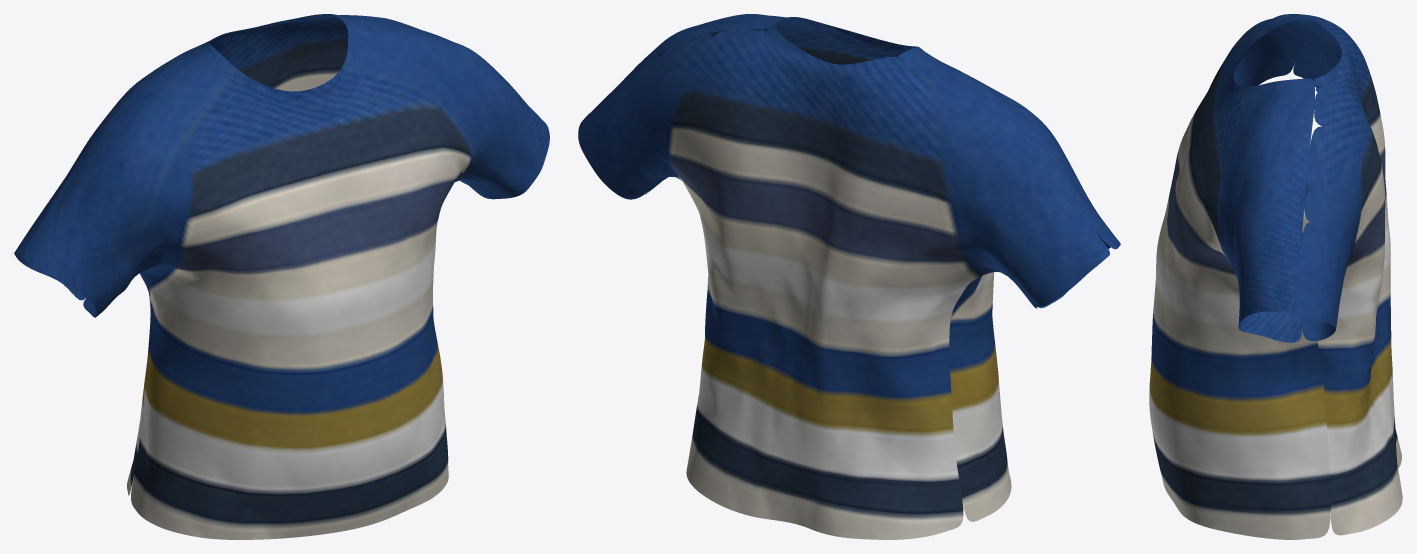
Rendered from TL_SMM.dae.
3 renders of one model, left to right at view 1: azimuth 30°, elevation 25°; view 2: azimuth 150°, elevation 25°; view 3: azimuth 270°, elevation 25°, orthographic. The views are drawn at different scales.
Parts seen in each view (by area): view 1: tshirt; view 2: tshirt; view 3: tshirt.
Boxes of the visible parts, x1=… form: tshirt: x1=14, y1=14, x2=549, y2=539; tshirt: x1=578, y1=14, x2=1120, y2=539; tshirt: x1=1149, y1=14, x2=1402, y2=539.
Bounding box in the file's own units: 6.85 × 5.61 × 3.
